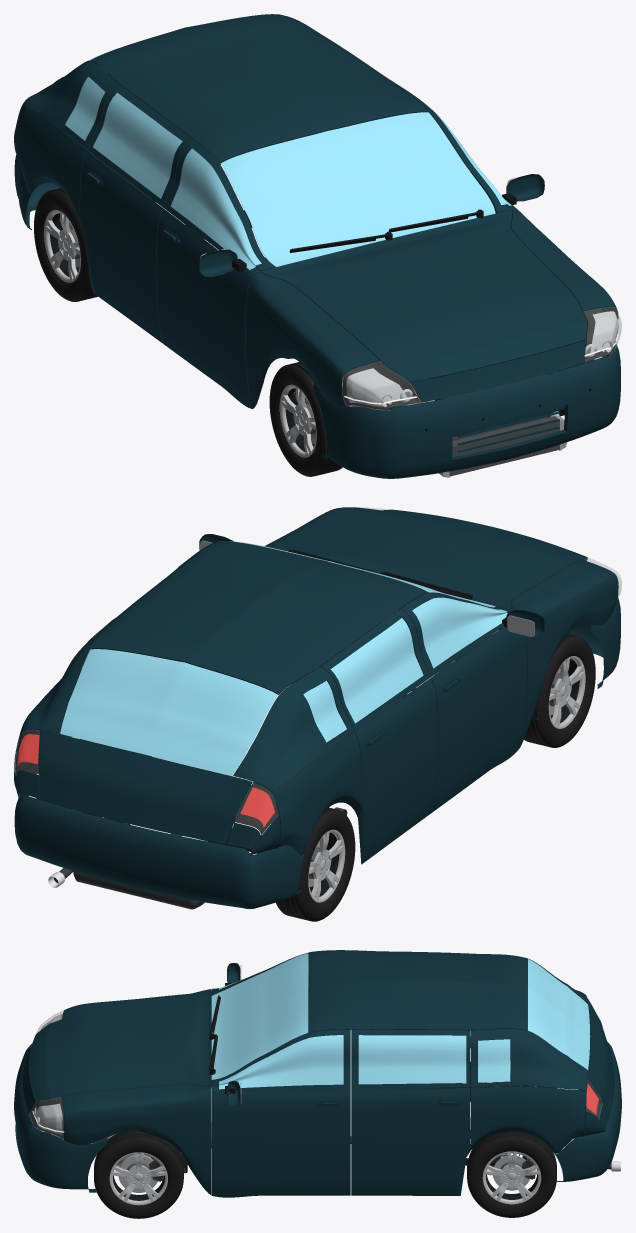
Rendered from car.glb.
3 views of the same model, one above another, from view 1: azimuth 30°, elevation 25°; view 2: azimuth 150°, elevation 25°; view 3: azimuth 270°, elevation 25° (orthographic). The views are drawn at different scales.
Visible parts, largest first — view 1: mesh__hauba__main__0, body__structure__upper, mesh__stakla__windshield__0, mesh__branici__front__0, mesh__vrata__fr__0, mesh__vrata__rr__0, mesh__stakla__side__0, mesh__blatobrani__r__0, mesh__felne-gume__fr__0, mesh__felne-gume__rr__0, body__structure__right, mesh__blatobrani__l__0 (+8 smaller); view 2: body__structure__upper, mesh__stakla__rear__0, mesh__branici__rear__0, body__structure__rear, mesh__hauba__main__0, mesh__vrata__fr__0, mesh__vrata__rr__0, mesh__stakla__side__0, mesh__blatobrani__r__0, body__structure__right, mesh__felne-gume__fr__0, mesh__felne-gume__rr__0 (+7 smaller); view 3: body__structure__upper, mesh__vrata__fl__0, mesh__hauba__main__0, mesh__vrata__rl__0, mesh__stakla__side__0, mesh__blatobrani__l__0, mesh__stakla__windshield__0, body__structure__left, mesh__felne-gume__fl__0, mesh__felne-gume__rl__0, mesh__branici__front__0, mesh__stakla__rear__0 (+9 smaller).
Part boxes in pixels (x1,y1,x2,y2): mesh__hauba__main__0: [261, 210, 587, 382]; body__structure__upper: [23, 14, 428, 163]; mesh__stakla__windshield__0: [220, 112, 495, 266]; mesh__branici__front__0: [313, 340, 620, 478]; mesh__vrata__fr__0: [156, 139, 275, 408]; mesh__vrata__rr__0: [80, 85, 193, 343]; mesh__stakla__side__0: [65, 77, 511, 269]; mesh__blatobrani__r__0: [245, 272, 379, 408]; mesh__felne-gume__fr__0: [269, 362, 349, 476]; mesh__felne-gume__rr__0: [34, 188, 97, 301]; body__structure__right: [14, 103, 87, 223]; mesh__blatobrani__l__0: [511, 210, 618, 320]; body__structure__upper: [23, 541, 428, 791]; mesh__stakla__rear__0: [60, 649, 277, 775]; mesh__branici__rear__0: [14, 793, 303, 908]; body__structure__rear: [14, 730, 280, 854]; mesh__hauba__main__0: [276, 509, 587, 610]; mesh__vrata__fr__0: [401, 592, 526, 813]; mesh__vrata__rr__0: [321, 609, 438, 864]; mesh__stakla__side__0: [82, 597, 507, 742]; mesh__blatobrani__r__0: [511, 560, 618, 747]; body__structure__right: [271, 732, 361, 855]; mesh__felne-gume__fr__0: [524, 633, 595, 747]; mesh__felne-gume__rr__0: [276, 807, 355, 921]; body__structure__upper: [308, 950, 587, 1090]; mesh__vrata__fl__0: [211, 1029, 350, 1197]; mesh__hauba__main__0: [29, 990, 211, 1101]; mesh__vrata__rl__0: [351, 1029, 470, 1195]; mesh__stakla__side__0: [219, 954, 510, 1089]; mesh__blatobrani__l__0: [62, 1084, 211, 1194]; mesh__stakla__windshield__0: [211, 953, 308, 1079]; body__structure__left: [470, 1086, 585, 1153]; mesh__felne-gume__fl__0: [94, 1130, 183, 1218]; mesh__felne-gume__rl__0: [467, 1132, 556, 1217]; mesh__branici__front__0: [14, 1038, 107, 1192]; mesh__stakla__rear__0: [527, 959, 590, 1069].
Bounding box in the file's own units: 2.17 × 1.45 × 4.27.
